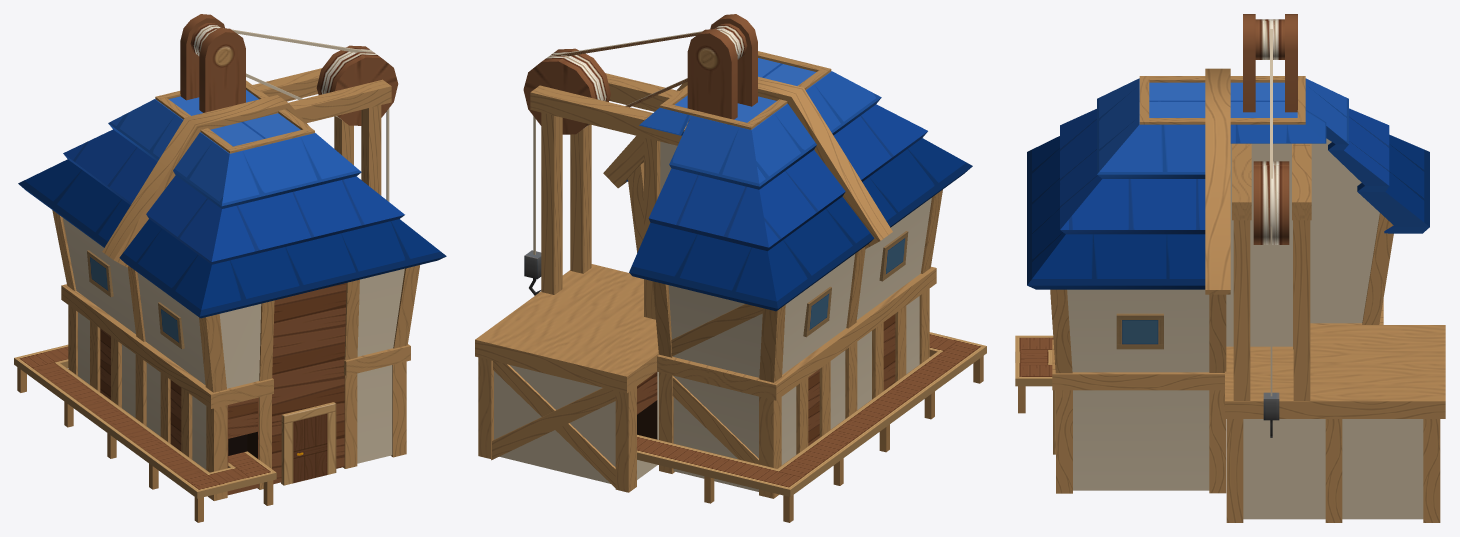
File: building_storage_lv5.FBX
3 views of the same model, side by side, from view 1: azimuth 30°, elevation 25°; view 2: azimuth 150°, elevation 25°; view 3: azimuth 270°, elevation 25° (orthographic). The views are drawn at different scales.
Parts seen in each view (by area): view 1: building_storage_lv5, building_storage_roof_lv5; view 2: building_storage_lv5, building_storage_roof_lv5; view 3: building_storage_lv5, building_storage_roof_lv5.
Boxes of the visible parts, box(x1,y1,x2,y2) form: building_storage_lv5: box(14, 14, 419, 522); building_storage_roof_lv5: box(18, 90, 446, 318); building_storage_lv5: box(475, 14, 986, 522); building_storage_roof_lv5: box(626, 58, 972, 311); building_storage_lv5: box(1015, 14, 1445, 522); building_storage_roof_lv5: box(1027, 78, 1429, 289).
Bounding box in the file's own units: 515 × 607 × 555.
